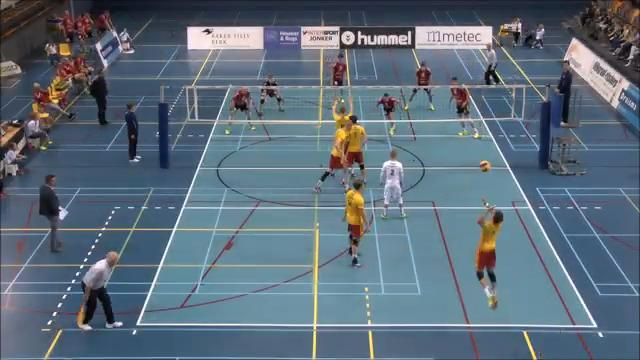muro: (472, 199, 504, 309)
